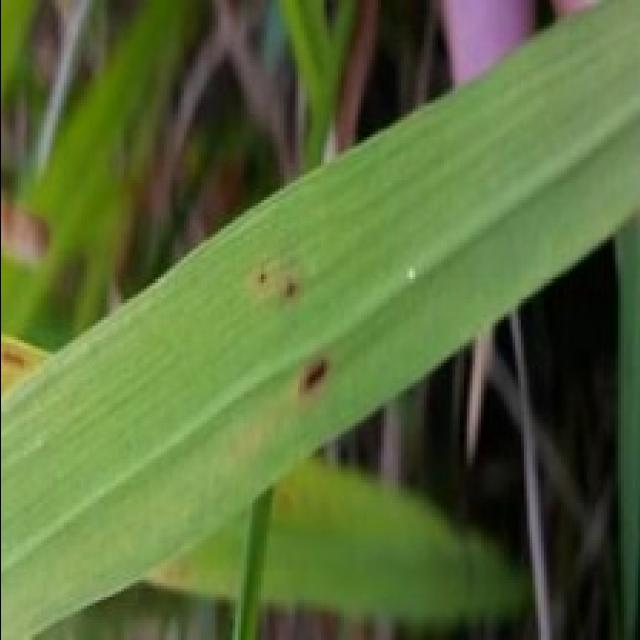Unhealthy: (293, 355, 333, 406), (249, 269, 275, 296), (281, 278, 305, 305)
